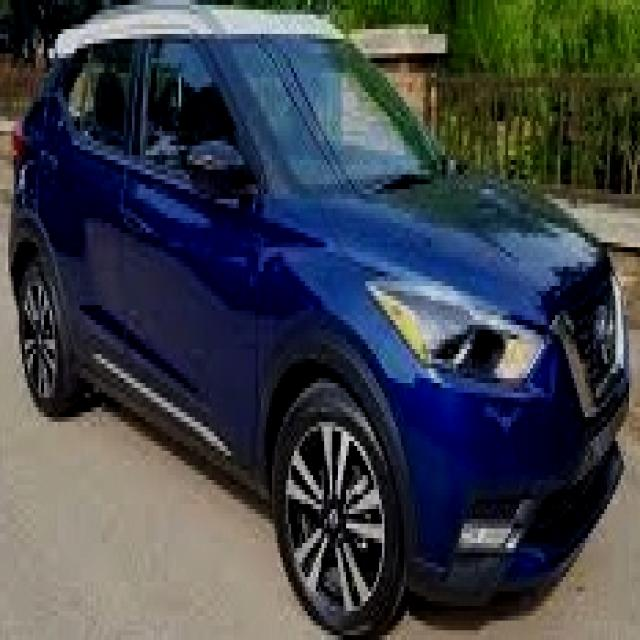blue: (6, 10, 633, 640)
